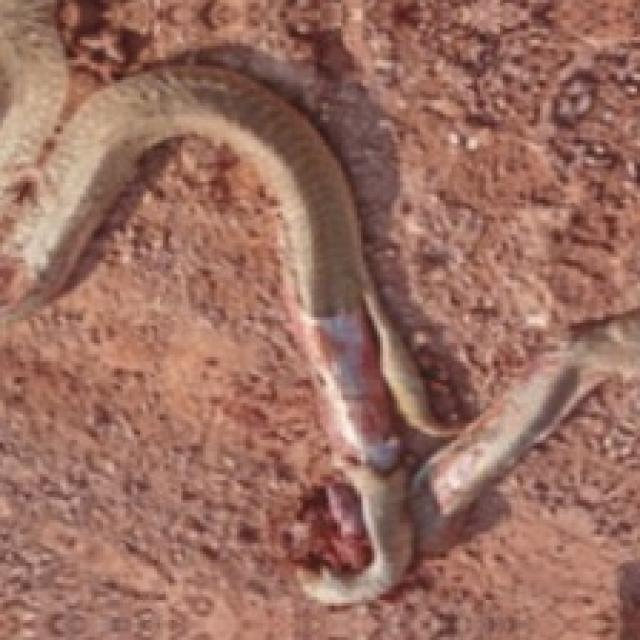king cobra: (0, 131, 637, 637), (0, 0, 637, 423)
